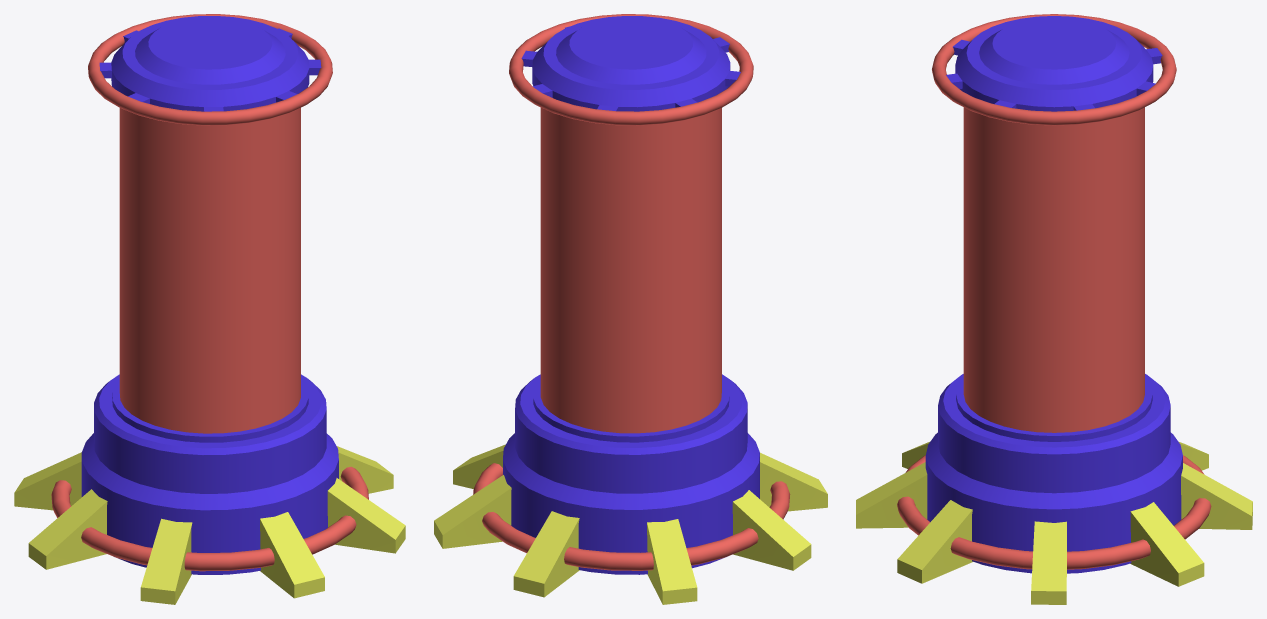
The model's file is Generador.fbx.
The picture shows the model from 3 angles, left to right: view 1: azimuth 30°, elevation 25°; view 2: azimuth 150°, elevation 25°; view 3: azimuth 270°, elevation 25°; orthographic projection.
Visible parts, largest first — view 1: Base.003; view 2: Base.003; view 3: Base.003.
Boxes of the visible parts, x1=… form: Base.003: x1=14, y1=14, x2=405, y2=604; Base.003: x1=434, y1=14, x2=827, y2=604; Base.003: x1=856, y1=14, x2=1252, y2=604.
Size of the model in its own units: 282 by 374 by 282.
